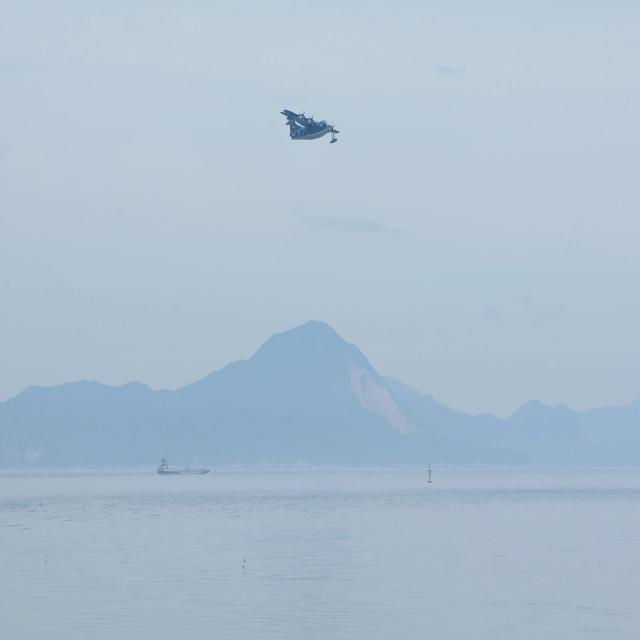MIL_Plane: (280, 109, 340, 143)
